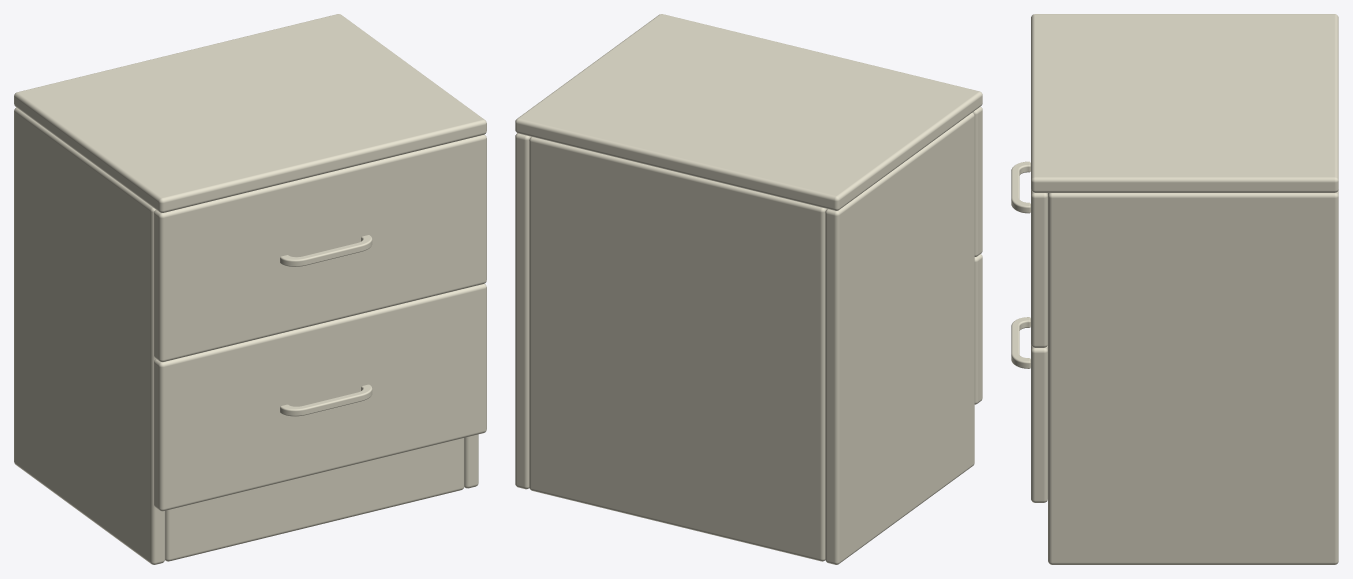
File: BedSide.FBX
3 renders of one model, left to right at view 1: azimuth 30°, elevation 25°; view 2: azimuth 150°, elevation 25°; view 3: azimuth 270°, elevation 25°, orthographic. The views are drawn at different scales.
Parts seen in each view (by area): view 1: object_5, object_3, object_1, object_2, object_4, object_7, object_8, object_6; view 2: object_4, object_3, object_5, object_6, object_1, object_2; view 3: object_6, object_5, object_1, object_2, object_8, object_7.
Part boxes in pixels (<box>): object_5: <box>14,14,486,212</box>; object_3: <box>14,107,165,564</box>; object_1: <box>154,283,486,511</box>; object_2: <box>154,134,486,362</box>; object_4: <box>165,438,464,561</box>; object_7: <box>280,384,372,416</box>; object_8: <box>280,235,372,266</box>; object_6: <box>464,434,478,488</box>; object_4: <box>529,137,826,561</box>; object_3: <box>825,112,974,564</box>; object_5: <box>515,14,982,210</box>; object_6: <box>515,133,530,489</box>; object_1: <box>974,254,982,404</box>; object_2: <box>972,106,982,256</box>; object_6: <box>1048,191,1338,564</box>; object_5: <box>1031,14,1338,192</box>; object_1: <box>1031,345,1047,502</box>; object_2: <box>1031,190,1047,347</box>; object_8: <box>1011,161,1030,213</box>; object_7: <box>1011,317,1030,368</box>.
Size of the model in its own units: 23 by 25 by 19.15.
